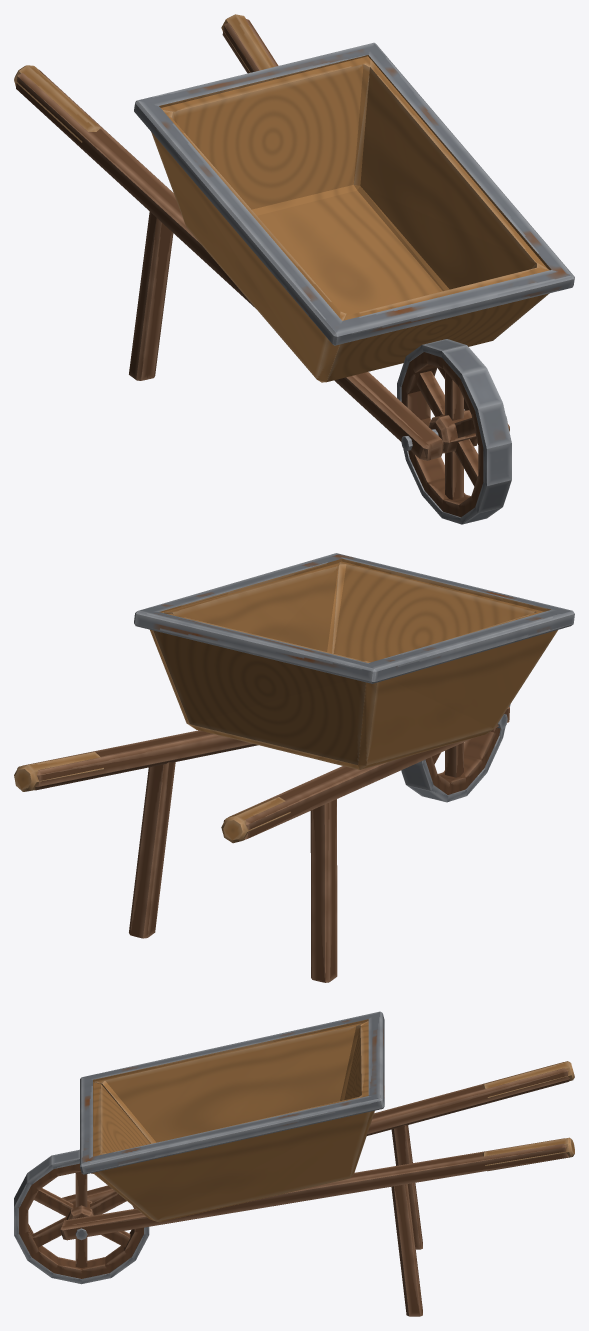
The model's file is wheelbarrow.glb.
3 views of the same model, one above another, from view 1: azimuth 30°, elevation 25°; view 2: azimuth 150°, elevation 25°; view 3: azimuth 270°, elevation 25° (orthographic). The views are drawn at different scales.
Parts seen in each view (by area): view 1: tray, wheel, handle_left, leg_left, grip_left, grip_right, handle_right; view 2: tray, handle_right, leg_left, leg_right, handle_left, wheel, grip_right, grip_left; view 3: tray, wheel, handle_right, handle_left, leg_right, leg_left, grip_right, grip_left.
Boxes of the visible parts, box(x1,y1,x2,y2) form: tray: box(134, 42, 574, 382); wheel: box(397, 339, 511, 524); handle_left: box(16, 69, 443, 460); leg_left: box(129, 212, 173, 380); grip_left: box(14, 65, 100, 142); grip_right: box(221, 14, 274, 72); handle_right: box(222, 18, 509, 431); tray: box(134, 553, 574, 769); handle_right: box(17, 730, 258, 790); leg_left: box(310, 799, 337, 982); leg_right: box(129, 762, 175, 938); handle_left: box(223, 707, 509, 839); wheel: box(401, 704, 510, 802); grip_right: box(14, 752, 103, 791); grip_left: box(221, 797, 290, 843); tray: box(80, 1011, 384, 1222); wheel: box(14, 1149, 149, 1284); handle_right: box(60, 1138, 568, 1240); handle_left: box(62, 1062, 569, 1202); leg_right: box(391, 1184, 422, 1316); leg_left: box(391, 1125, 422, 1249); grip_right: box(482, 1137, 574, 1171); grip_left: box(482, 1061, 574, 1102).
Size of what is drawn, in the model's own units: 0.635 by 0.7512 by 1.7.
Materials: 3 (3 with a texture image).
